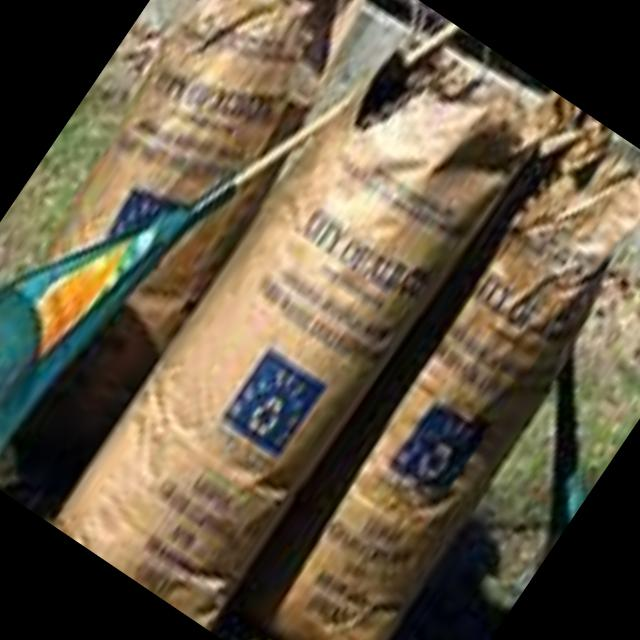KantongSemen: (37, 24, 543, 633), (214, 138, 640, 640), (0, 0, 403, 473)
